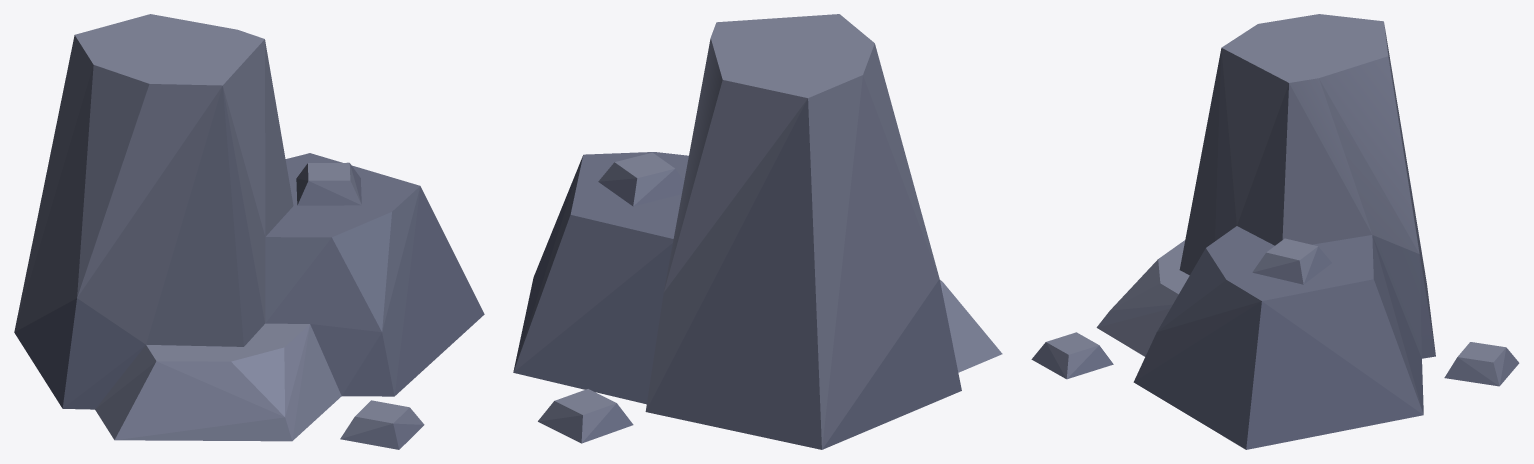
The model's file is rock-a.glb.
3 views of the same model, side by side, from view 1: azimuth 30°, elevation 25°; view 2: azimuth 150°, elevation 25°; view 3: azimuth 270°, elevation 25° (orthographic). The views are drawn at different scales.
Visible parts, largest first — view 1: c6a7087, c6e738a, c777c94, c60657d, c81869c, c747990, c676c84, c71768d, c7a7f97, c7d829a, c5c627a, c636980; view 2: c676c84, c6e738a, c60657d, c747990, c7a7f97, c81869c, c777c94; view 3: c60657d, c7a7f97, c71768d, c676c84, c81869c, c6a7087, c747990, c6e738a, c636980, c7d829a, c777c94.
Part boxes in pixels (left/top/right/bottom): c6a7087: left=146, top=86, right=420, bottom=346; c6e738a: left=14, top=65, right=419, bottom=344; c777c94: left=77, top=65, right=309, bottom=440; c60657d: left=14, top=186, right=484, bottom=408; c81869c: left=75, top=14, right=409, bottom=423; c747990: left=14, top=35, right=424, bottom=440; c676c84: left=265, top=163, right=423, bottom=449; c71768d: left=116, top=40, right=293, bottom=441; c7a7f97: left=96, top=39, right=265, bottom=408; c7d829a: left=157, top=324, right=309, bottom=416; c5c627a: left=63, top=333, right=394, bottom=409; c636980: left=382, top=187, right=420, bottom=395; c676c84: left=513, top=99, right=821, bottom=449; c6e738a: left=570, top=76, right=939, bottom=449; c60657d: left=513, top=156, right=961, bottom=449; c747990: left=538, top=75, right=1002, bottom=448; c7a7f97: left=664, top=38, right=943, bottom=295; c81869c: left=554, top=14, right=942, bottom=414; c777c94: left=863, top=43, right=938, bottom=276; c60657d: left=1133, top=237, right=1435, bottom=449; c7a7f97: left=1221, top=25, right=1419, bottom=253; c71768d: left=1215, top=48, right=1372, bottom=245; c676c84: left=1031, top=35, right=1519, bottom=414; c81869c: left=1046, top=14, right=1505, bottom=362; c6a7087: left=1157, top=49, right=1261, bottom=331; c747990: left=1046, top=79, right=1506, bottom=386; c6e738a: left=1206, top=59, right=1433, bottom=340; c636980: left=1134, top=235, right=1421, bottom=381; c7d829a: left=1110, top=259, right=1178, bottom=310; c777c94: left=1097, top=304, right=1172, bottom=327.
Size of the model in its own units: 0.5552 by 0.3927 by 0.6216.
